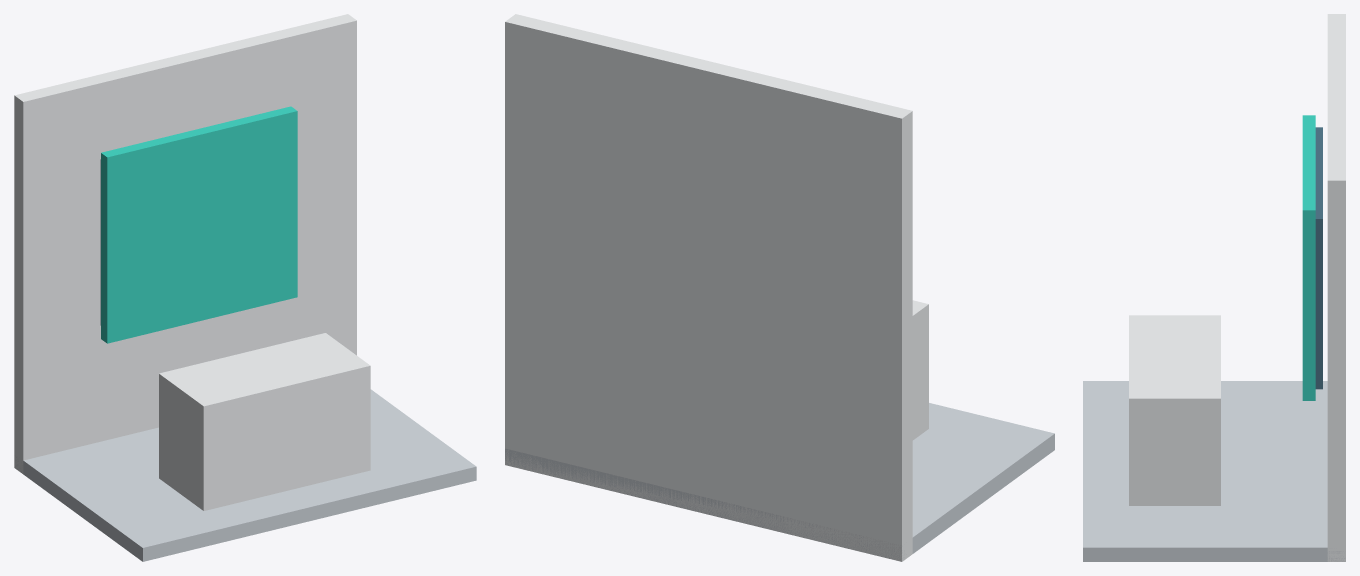
3 views of the same model, side by side, from view 1: azimuth 30°, elevation 25°; view 2: azimuth 150°, elevation 25°; view 3: azimuth 270°, elevation 25° (orthographic). The views are drawn at different scales.
Parts seen in each view (by area): view 1: Exhibition Booth Concept; view 2: Exhibition Booth Concept; view 3: Exhibition Booth Concept.
Part boxes in pixels (x1,y1,x2,y2): Exhibition Booth Concept: [14, 14, 476, 561]; Exhibition Booth Concept: [505, 14, 1054, 561]; Exhibition Booth Concept: [1083, 14, 1345, 561].
Bounding box in the file's own units: 3 × 3.2 × 2.
